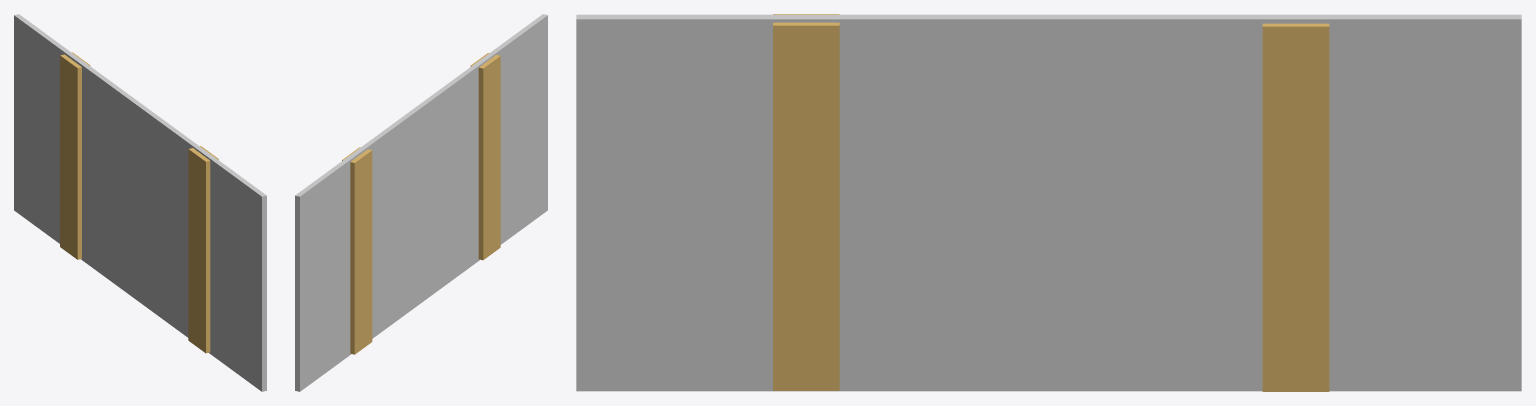
The model's file is WALL.fbx.
3 views of the same model, side by side, from view 1: azimuth 30°, elevation 25°; view 2: azimuth 150°, elevation 25°; view 3: azimuth 270°, elevation 25° (orthographic). The views are drawn at different scales.
Visible parts, largest first — view 1: Cube, Cube.001, Cube.002; view 2: Cube, Cube.001, Cube.002; view 3: Cube, Cube.002, Cube.001.
Part boxes in pixels (x1,y1,x2,y2): Cube: (14,14,266,391); Cube.001: (188,146,218,353); Cube.002: (60,52,90,259); Cube: (295,14,547,391); Cube.001: (470,53,500,260); Cube.002: (342,147,372,354); Cube: (576,14,1521,391); Cube.002: (1262,23,1329,391); Cube.001: (773,14,839,390).
Size of the model in its own units: 1.29 by 18.82 by 43.35.
